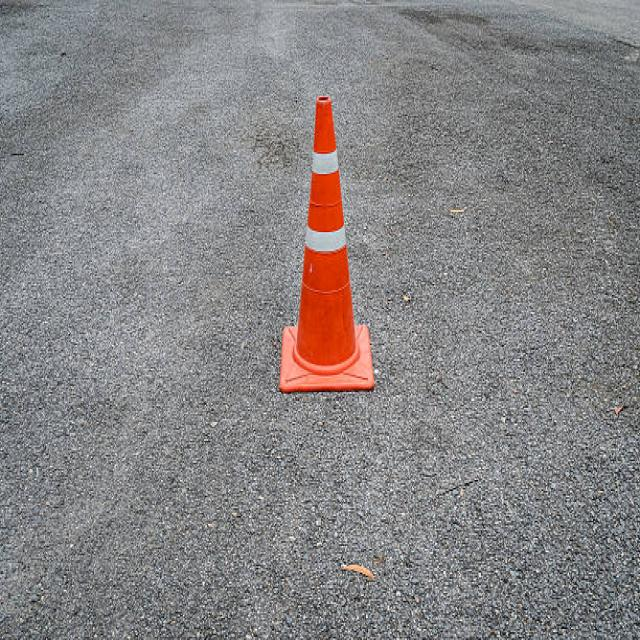Traffic Cone: (262, 78, 389, 415)
